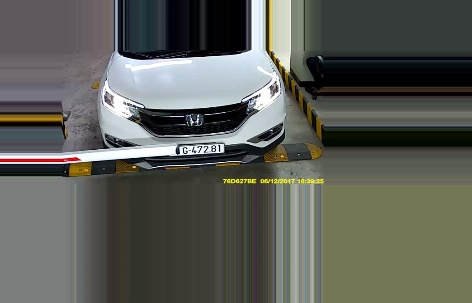plate: (175, 142, 225, 154)
